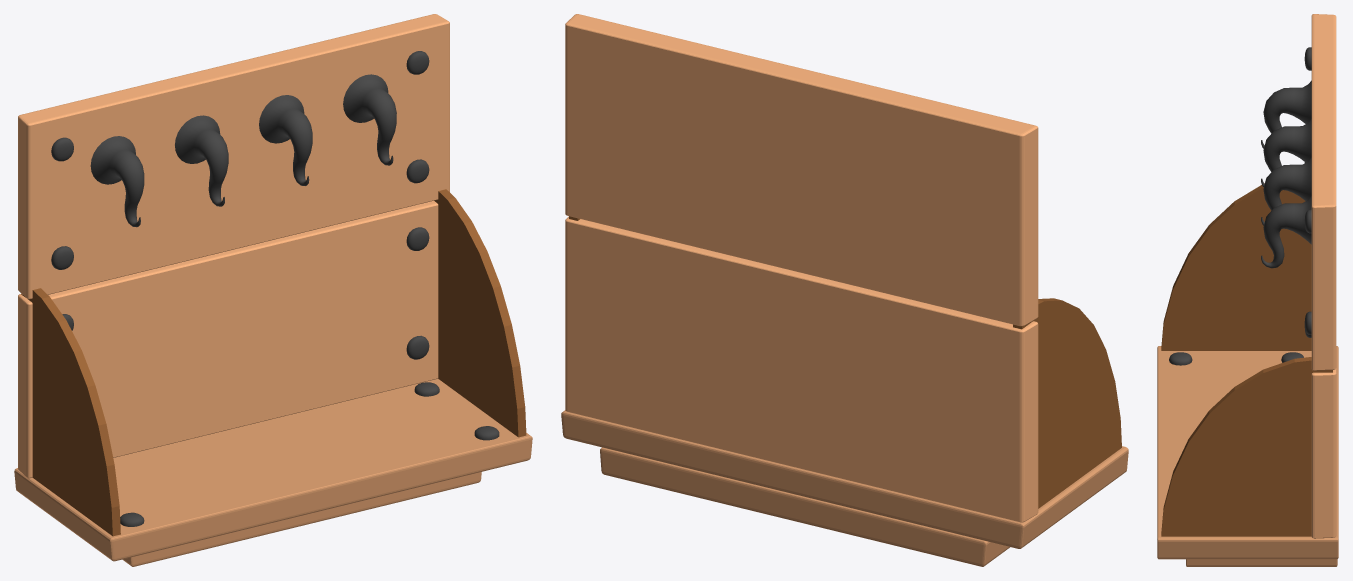
File: PegBoard.fbx
3 views of the same model, side by side, from view 1: azimuth 30°, elevation 25°; view 2: azimuth 150°, elevation 25°; view 3: azimuth 270°, elevation 25° (orthographic). The views are drawn at different scales.
Visible parts, largest first — view 1: Peg Board; view 2: Peg Board; view 3: Peg Board.
Boxes of the visible parts, x1=… form: Peg Board: x1=14, y1=14, x2=532, y2=566; Peg Board: x1=561, y1=14, x2=1128, y2=566; Peg Board: x1=1157, y1=14, x2=1338, y2=566.
Size of the model in its own units: 47.37 by 43.13 by 18.79.
